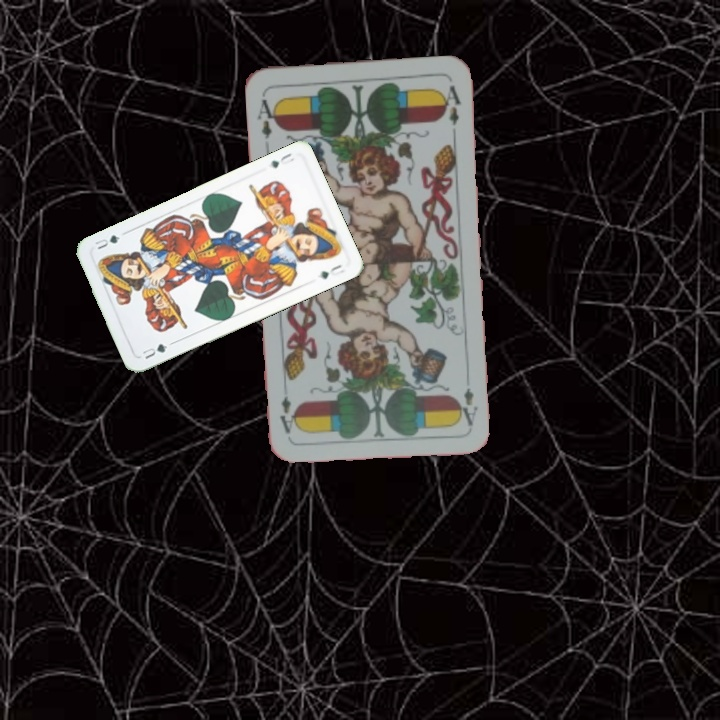EA: (253, 95, 281, 142), (454, 383, 480, 429)
GU: (138, 339, 170, 362), (266, 149, 297, 171)
